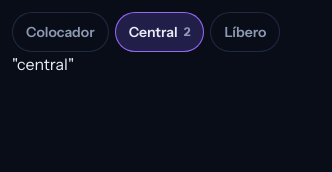
Test: ChipGroup › una sola opción: elegir otra cambia la elegida
What coordinates should you click on to do the following:
click the button "Líbero"
I would click on:
 (246, 32)
Its box is [210, 12, 280, 52].
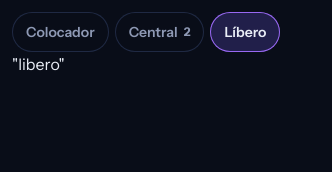
Result: the text "\"libero\"" is shown at [12, 54, 65, 74]
